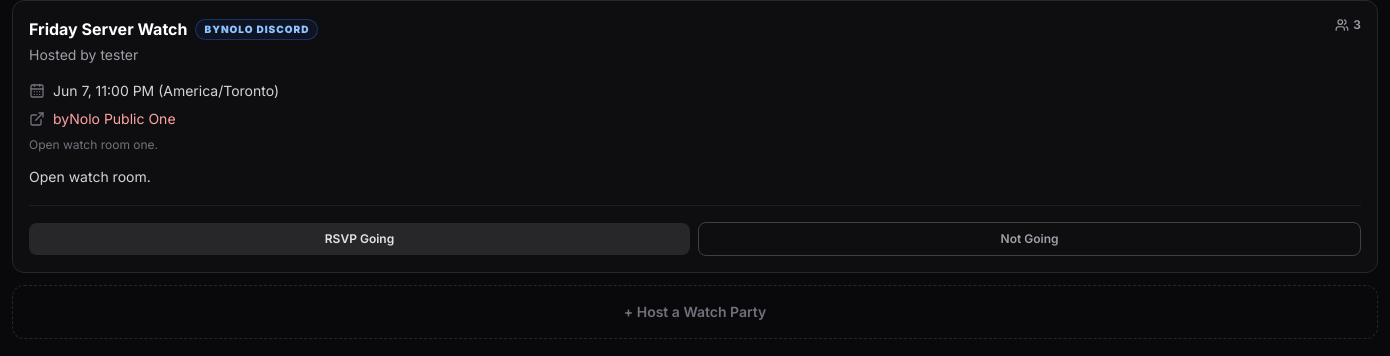
Test: WatchPartyBoard › allows RSVP from the compact home preview
Click the button "RSVP Going" at (360, 239), box [29, 223, 690, 255]
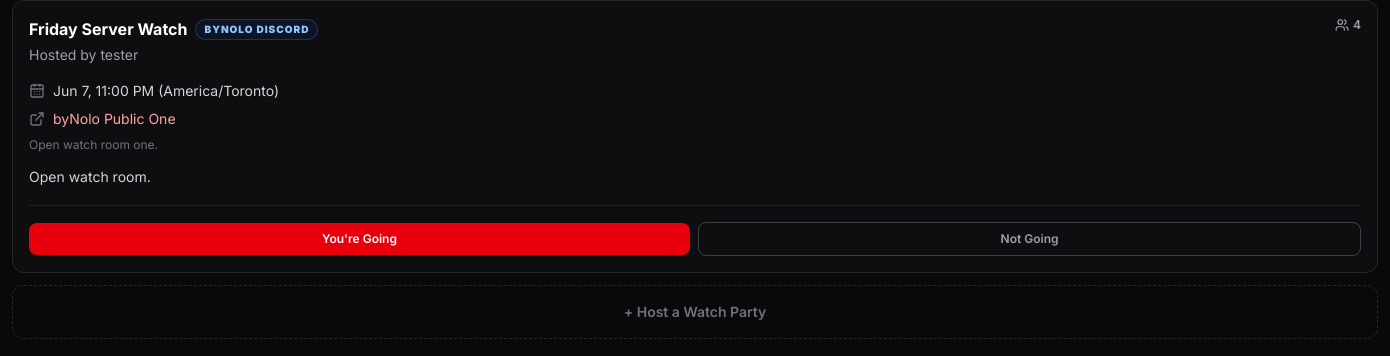
Now the button "You're Going" is shown, box [29, 223, 690, 255]
